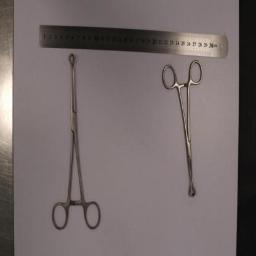Babcock Tissue Forceps: (162, 60, 202, 198)
